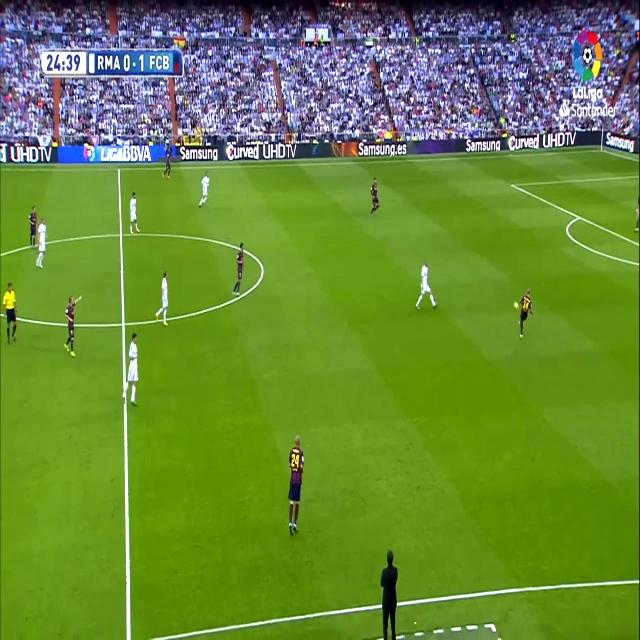halfcircle_bottom: (117, 310, 129, 336)
halfcircle_top: (116, 223, 126, 245)
midline_top_intersection: (115, 163, 123, 174)
top_arc_area_intersection: (574, 209, 582, 223)
